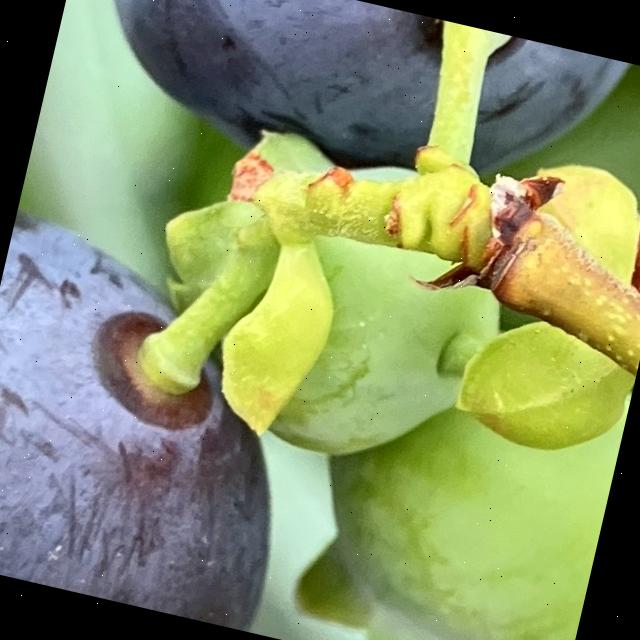Blueberries: (0, 204, 340, 634), (60, 0, 640, 229)
